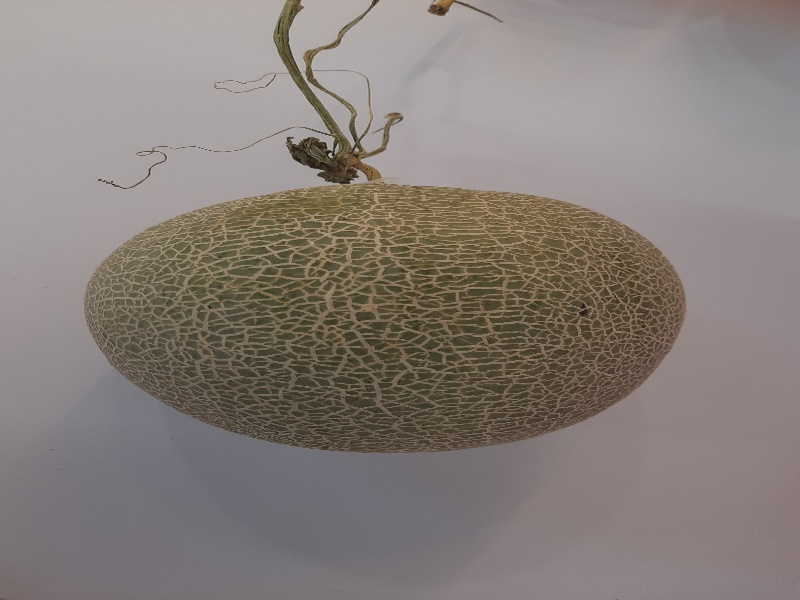fruit: (73, 32, 698, 462)
